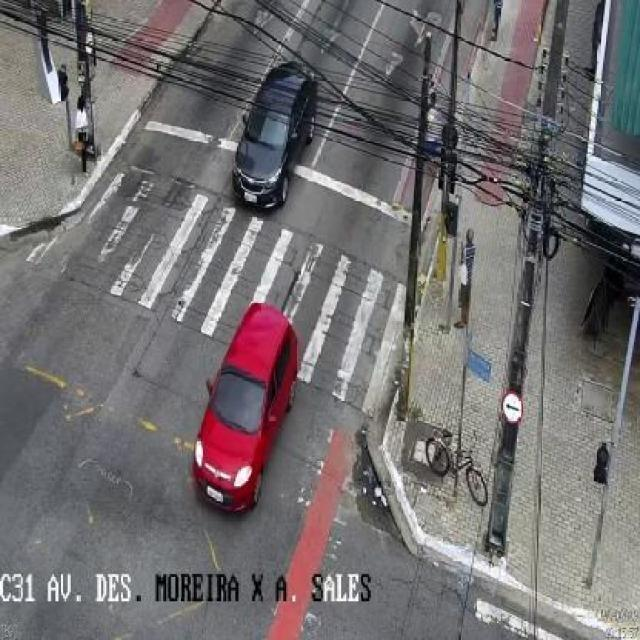Car: (190, 300, 301, 516), (229, 62, 322, 214)
Cycle: (417, 425, 493, 507)
